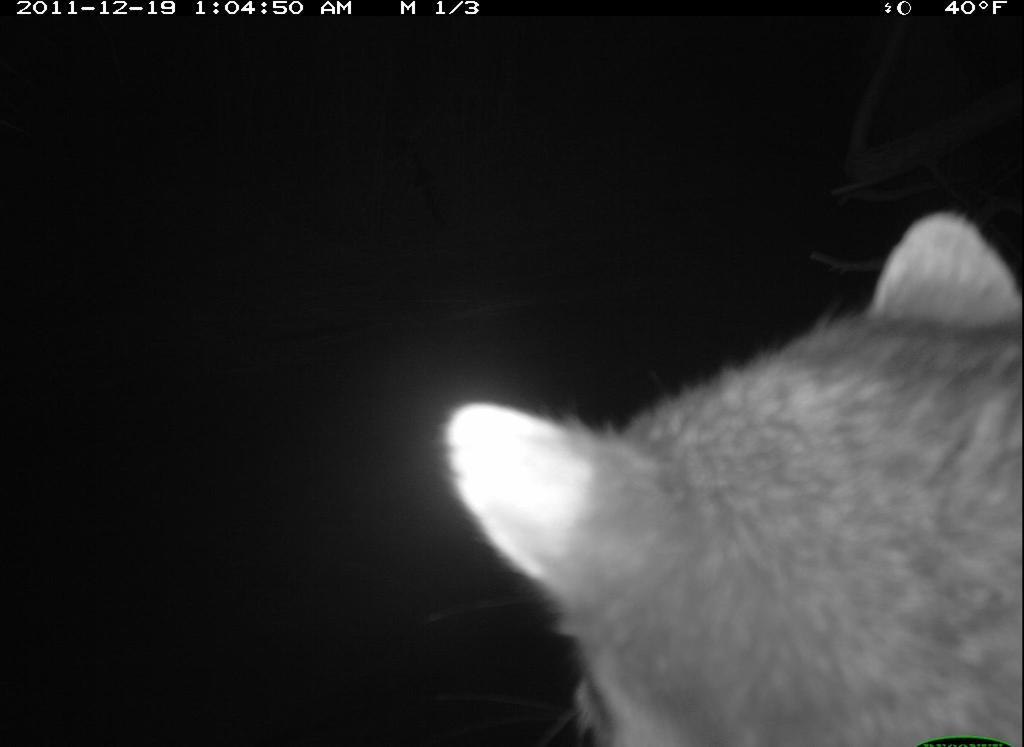raccoon: (427, 194, 1017, 747)
